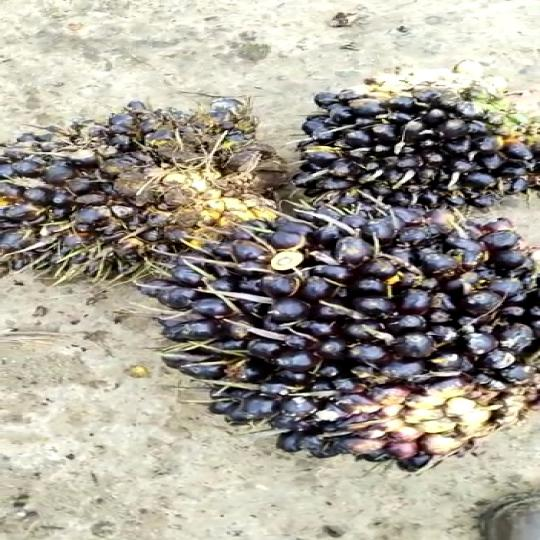mentah: (166, 204, 540, 493), (0, 77, 293, 287), (289, 75, 540, 212)
